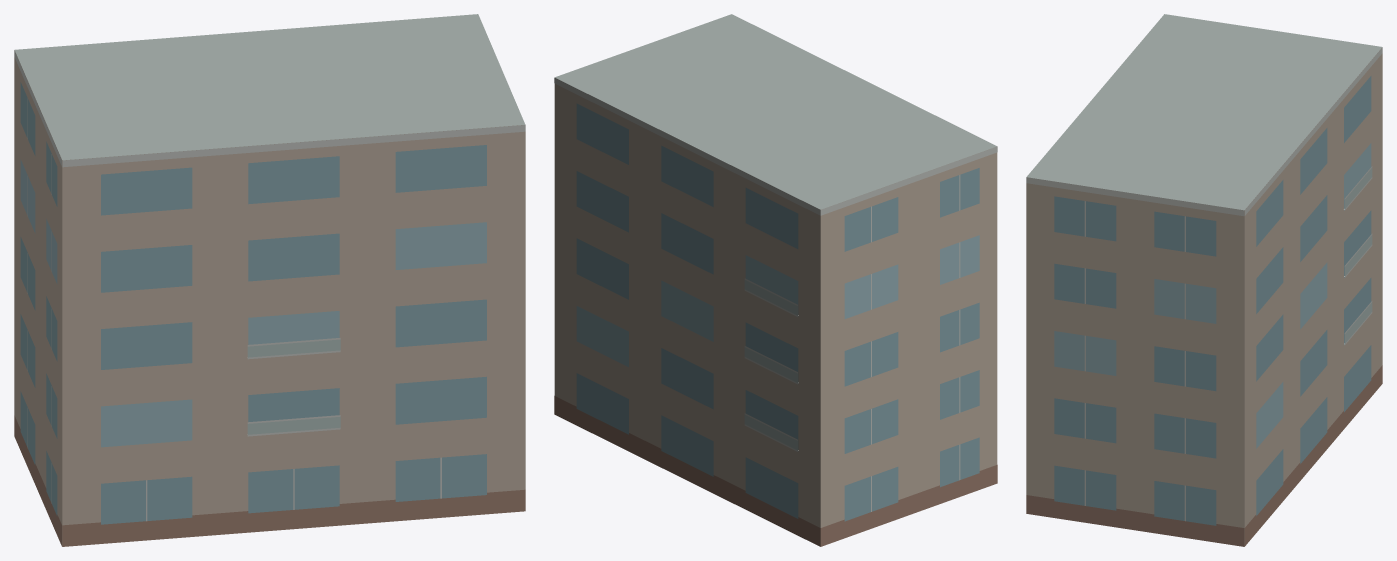
File: survey-upis-32894455.glb
The picture shows the model from 3 angles, left to right: view 1: azimuth 30°, elevation 25°; view 2: azimuth 150°, elevation 25°; view 3: azimuth 270°, elevation 25°; orthographic projection. The views are drawn at different scales.
Parts seen in each view (by area): view 1: survey-upis-32894455.tmp; view 2: survey-upis-32894455.tmp; view 3: survey-upis-32894455.tmp.
Boxes of the visible parts, box(x1,y1,x2,y2) form: survey-upis-32894455.tmp: box(14, 14, 525, 546); survey-upis-32894455.tmp: box(554, 14, 997, 546); survey-upis-32894455.tmp: box(1026, 14, 1382, 546).
Size of the model in its own units: 17.15 by 13.7 by 13.16.
